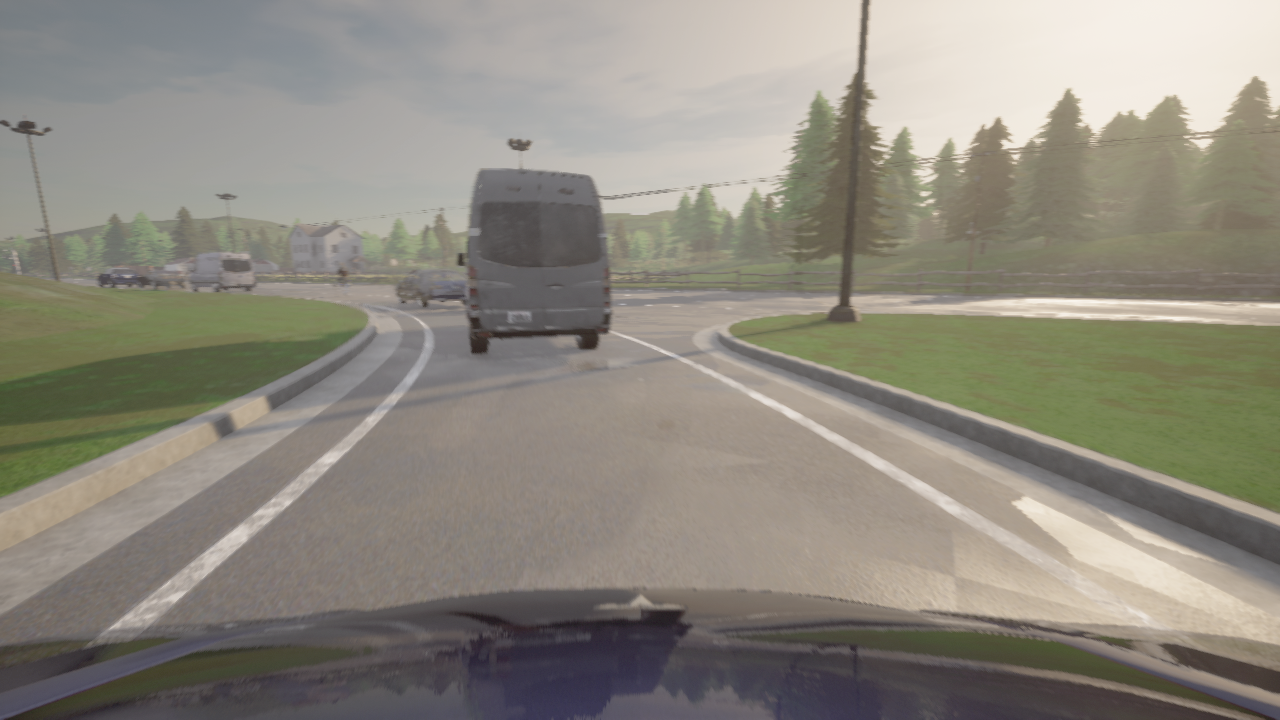cyclist: (0, 588, 1279, 719), (456, 169, 611, 354), (394, 268, 466, 307), (188, 252, 255, 291), (137, 270, 185, 288), (97, 268, 140, 287), (334, 281, 351, 296)
